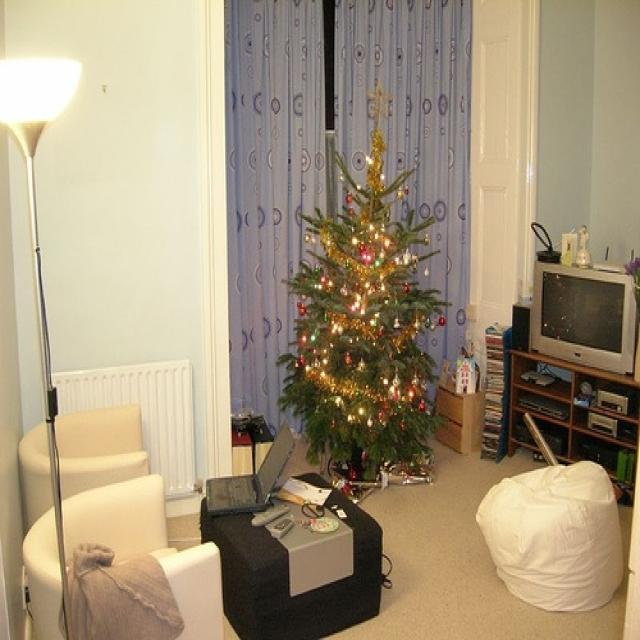chair: (24, 476, 224, 640), (18, 405, 150, 537)
tvmonitor: (535, 260, 637, 375)
